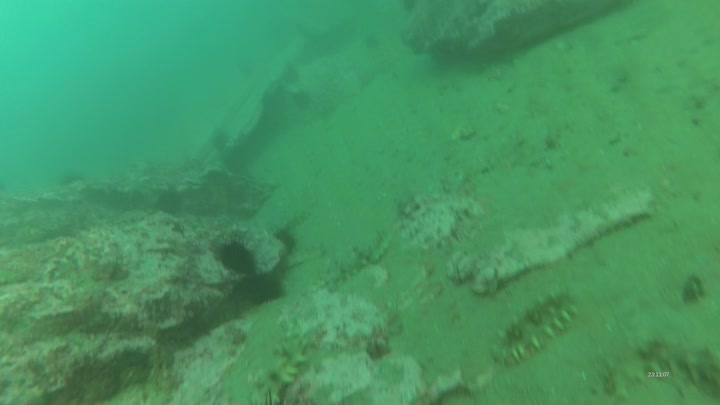echinus: (209, 236, 263, 279), (154, 188, 187, 219), (270, 229, 301, 256), (291, 89, 319, 115), (62, 170, 89, 192), (280, 64, 304, 86), (210, 132, 234, 153)
holothurian: (592, 335, 720, 398), (489, 289, 583, 369), (253, 335, 312, 405), (331, 229, 394, 288)
